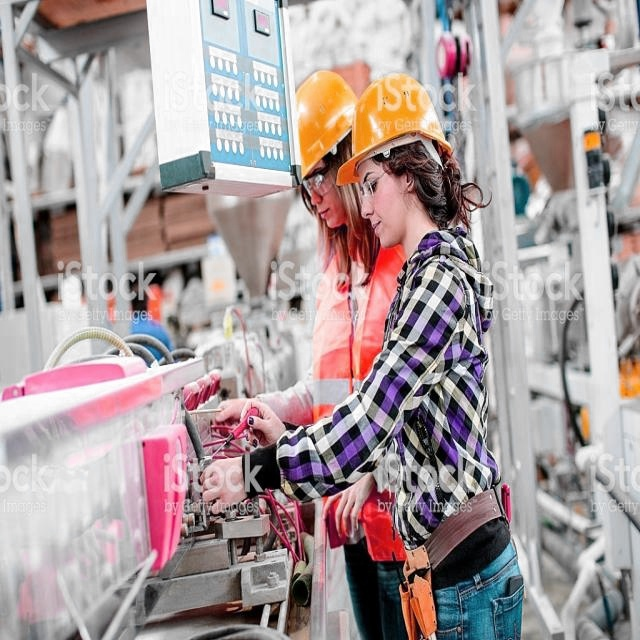Con_Casco: (337, 74, 456, 251)
